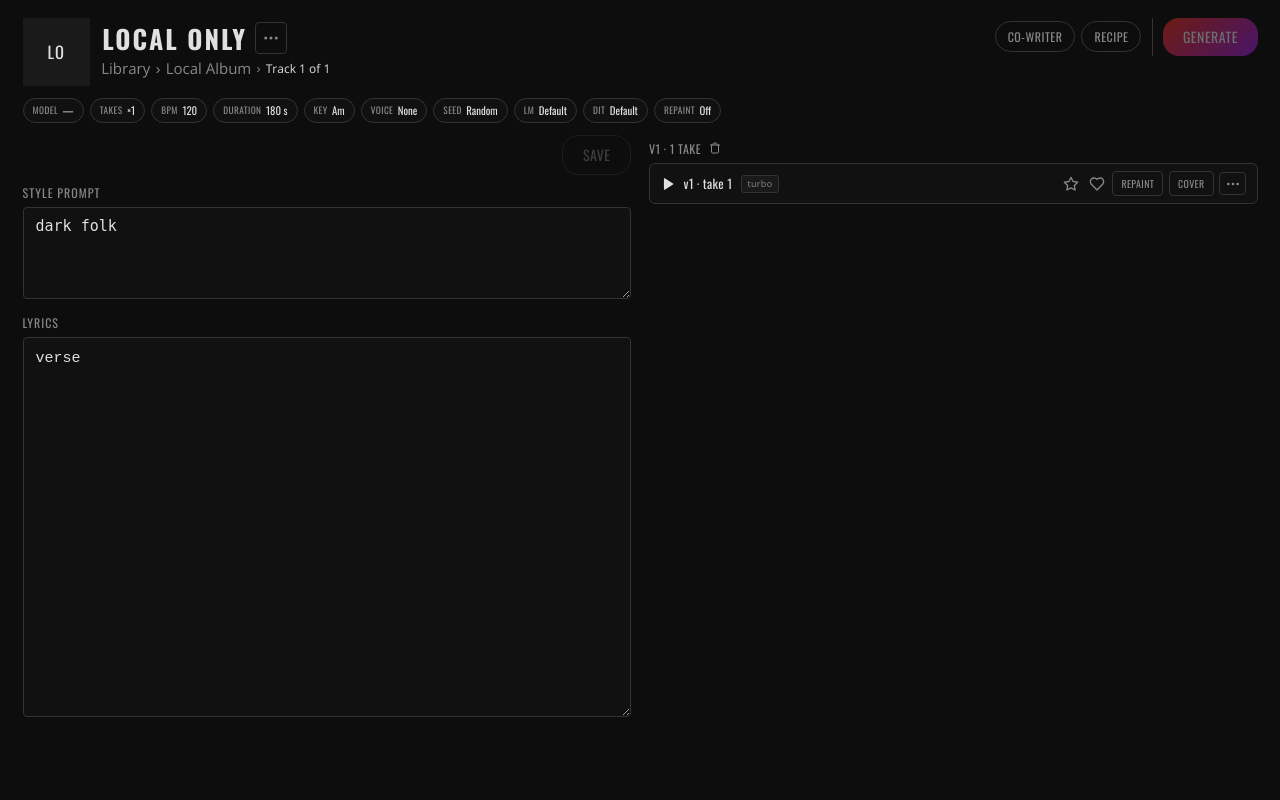
it: SongDetailView adding a take to a playlist › reports the one add with exactly one toast
This screenshot has width=1280, height=800.
Click the button with class "overflow-btn" at (1232, 184), box x1=1219 y1=172 x2=1246 y2=195
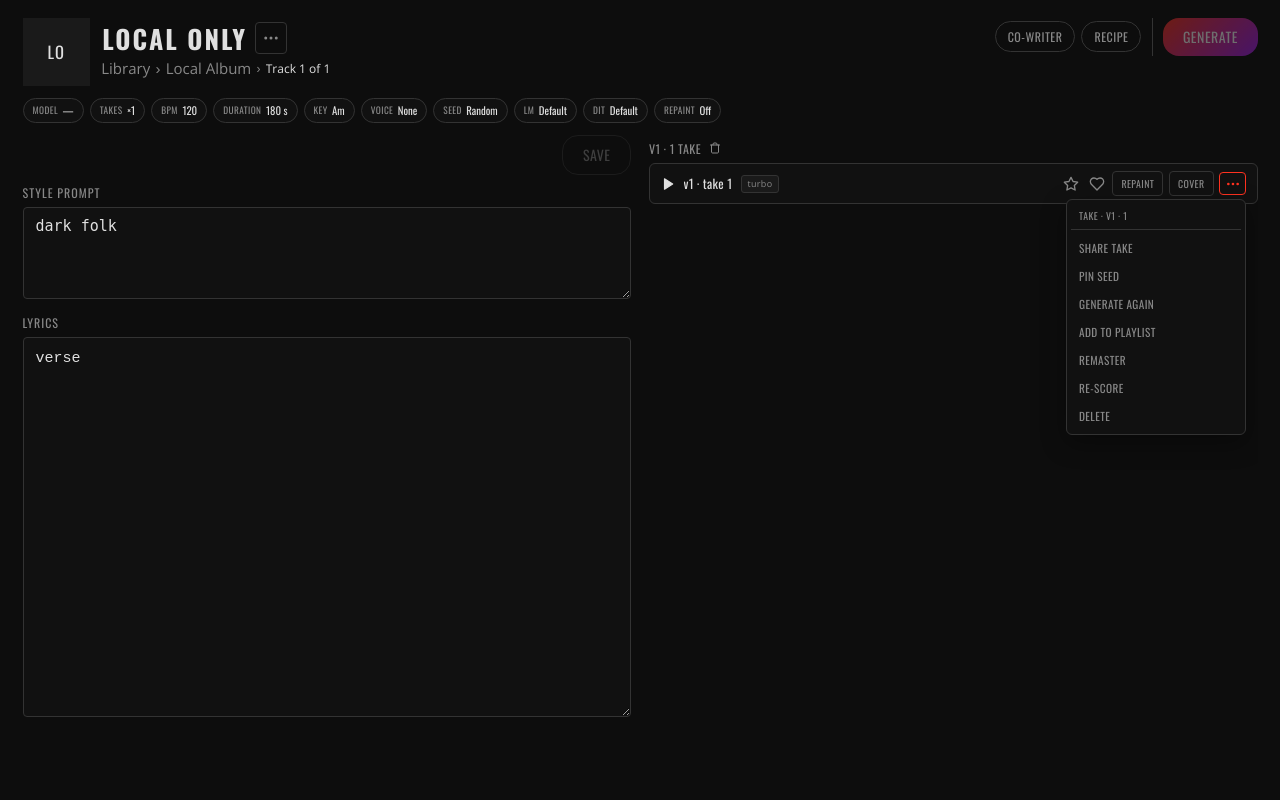
Click the menu item with class "overflow-item" showing "Add to playlist" at (1156, 332), box x1=1071 y1=318 x2=1241 y2=346
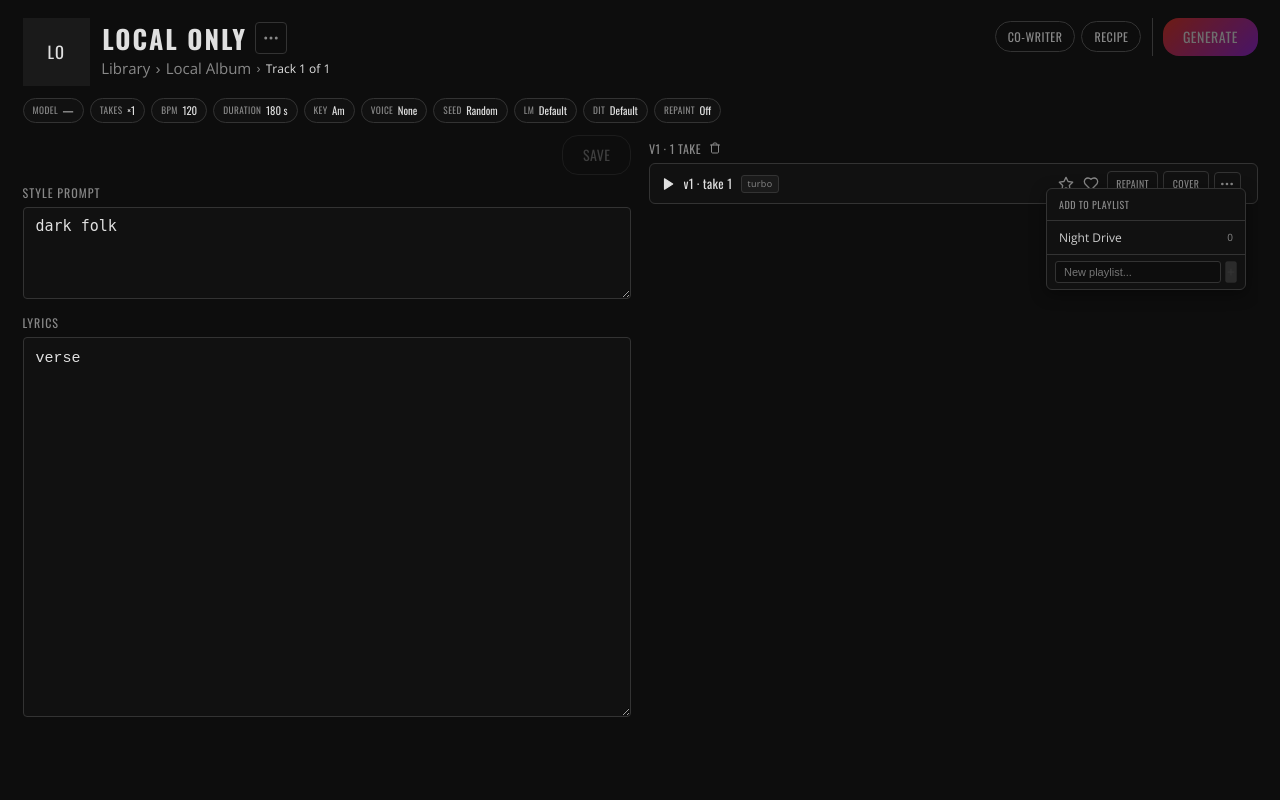
Click the button "Night Drive 0" at (1146, 237), box x1=1047 y1=221 x2=1245 y2=254
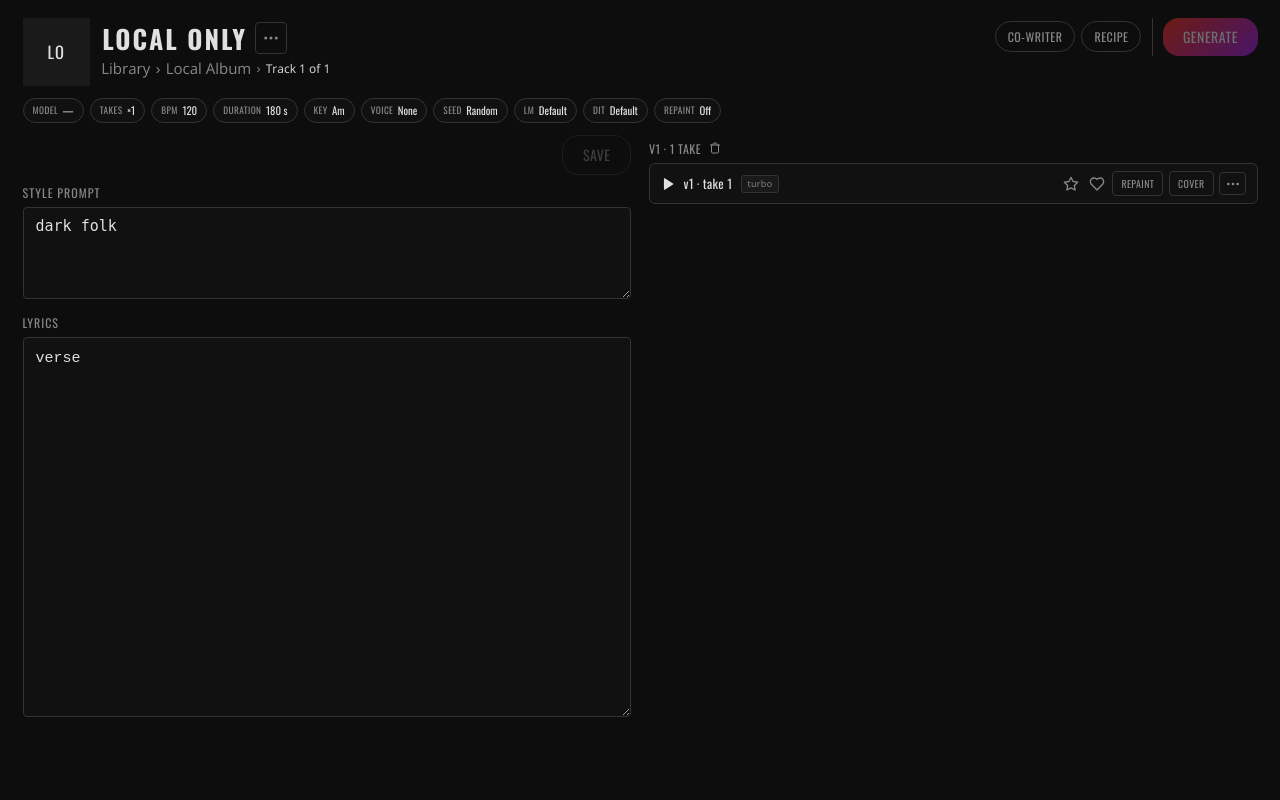
Check: the dialog is gone
